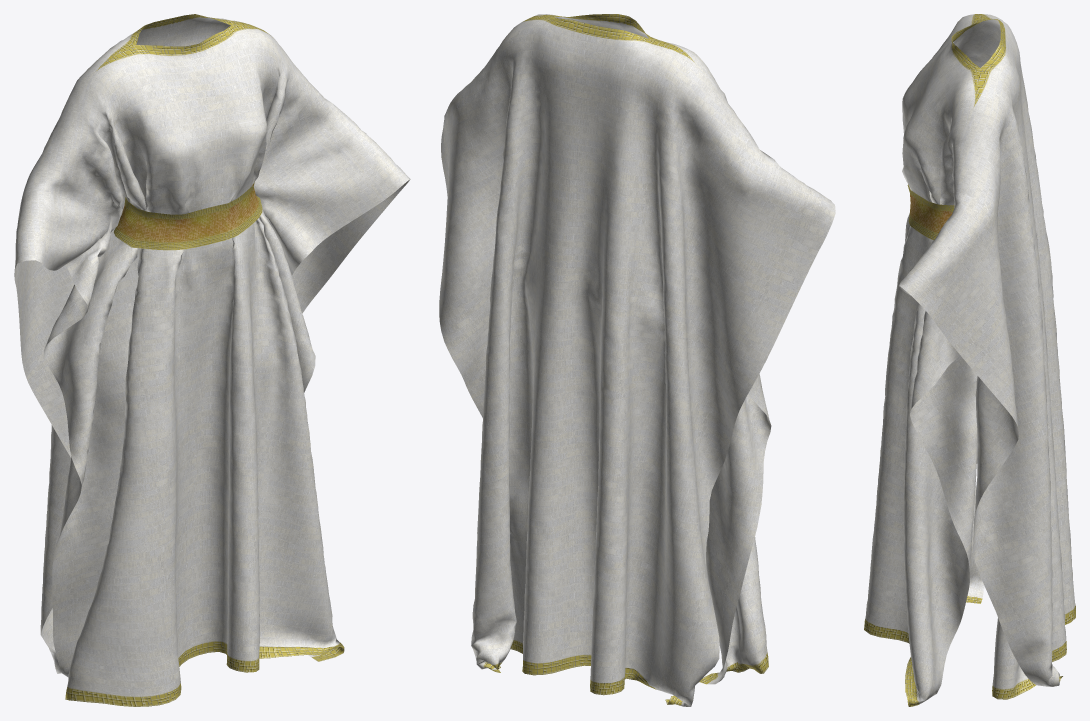
Rendered from elvs_goddess_dress5.glb.
3 renders of one model, left to right at view 1: azimuth 30°, elevation 25°; view 2: azimuth 150°, elevation 25°; view 3: azimuth 270°, elevation 25°, orthographic. The views are drawn at different scales.
Parts seen in each view (by area): view 1: elvs_goddess_dress5; view 2: elvs_goddess_dress5; view 3: elvs_goddess_dress5.
Boxes of the visible parts, bbox=[...] form: elvs_goddess_dress5: bbox=[14, 14, 410, 706]; elvs_goddess_dress5: bbox=[439, 14, 835, 706]; elvs_goddess_dress5: bbox=[864, 14, 1075, 706].
Bounding box in the file's own units: 8.67 × 13.64 × 4.21.
1 material, 1 textured.
